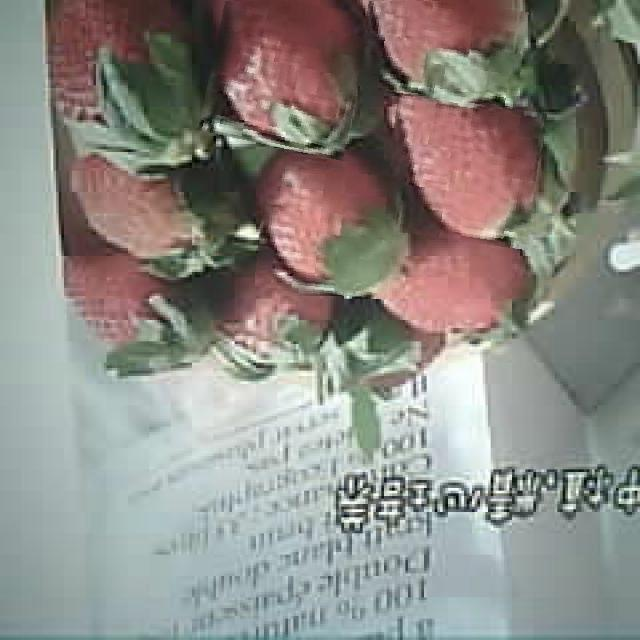strawberry: (205, 0, 367, 154), (384, 98, 542, 245), (258, 150, 398, 296), (360, 0, 526, 104)
